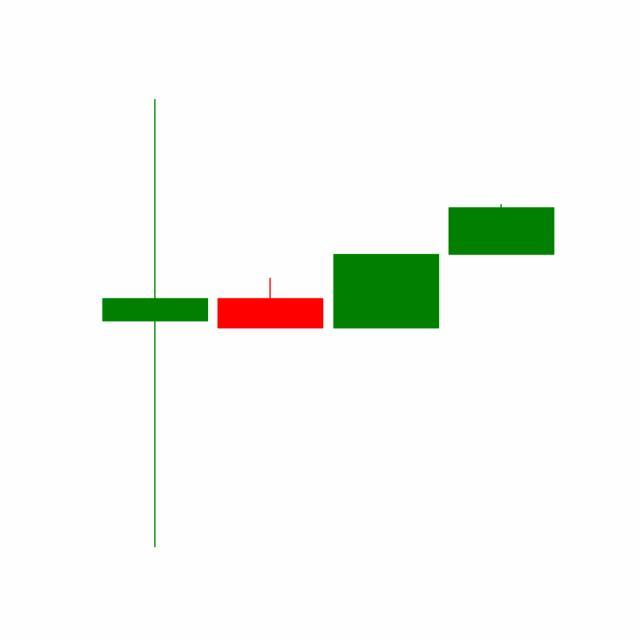Marubozu: (329, 253, 445, 329)
